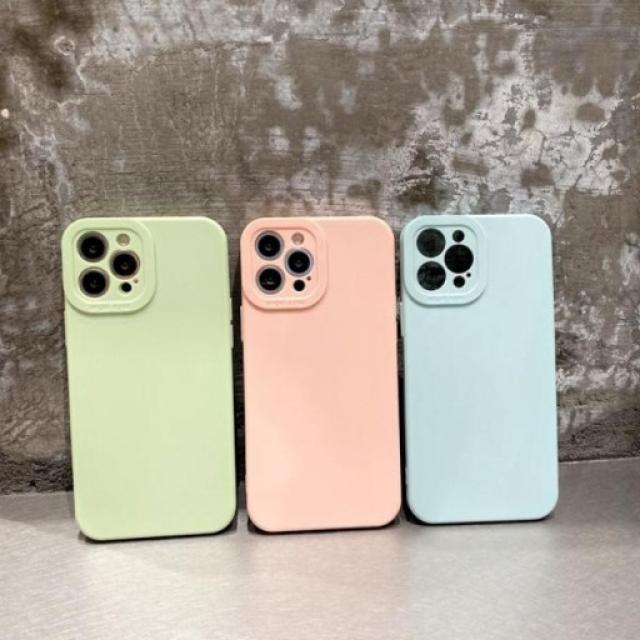phone: (60, 216, 239, 542), (239, 216, 402, 534), (400, 212, 560, 526)
